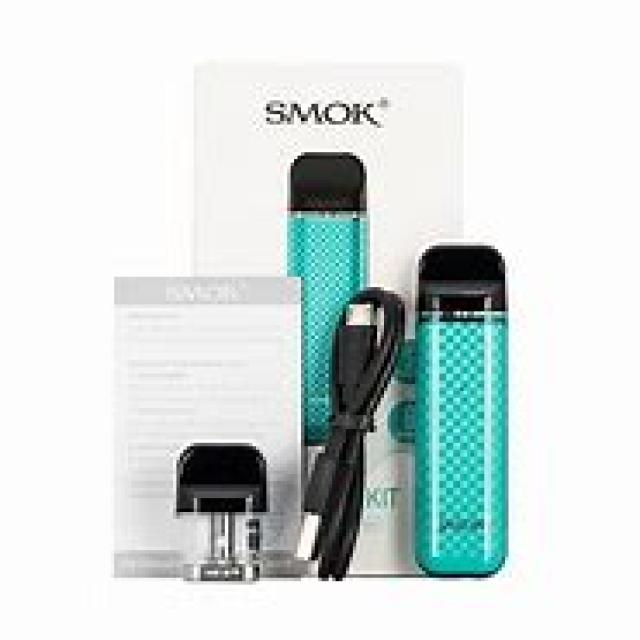Hazard: (413, 226, 519, 583)
